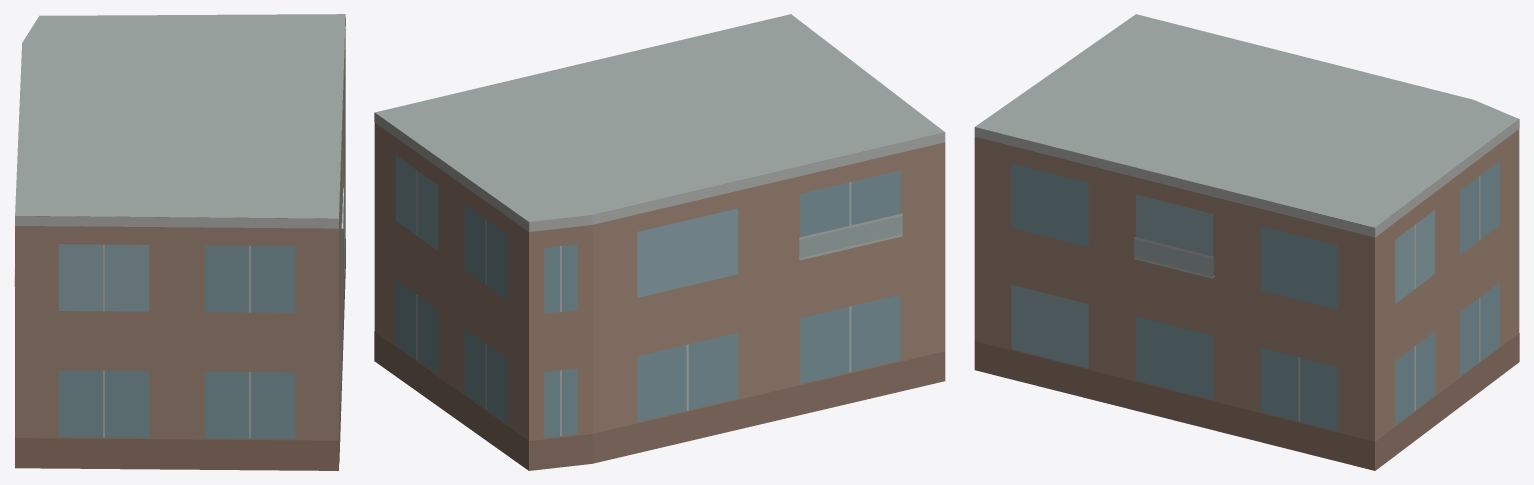
File: survey-upis-32848450.glb
The picture shows the model from 3 angles, left to right: view 1: azimuth 30°, elevation 25°; view 2: azimuth 150°, elevation 25°; view 3: azimuth 270°, elevation 25°; orthographic projection. The views are drawn at different scales.
Parts seen in each view (by area): view 1: survey-upis-32848450.tmp; view 2: survey-upis-32848450.tmp; view 3: survey-upis-32848450.tmp.
Boxes of the visible parts, x1=… form: survey-upis-32848450.tmp: x1=14, y1=14, x2=345, y2=470; survey-upis-32848450.tmp: x1=374, y1=14, x2=945, y2=470; survey-upis-32848450.tmp: x1=974, y1=14, x2=1519, y2=470.
Bounding box in the file's own units: 11.51 × 6.1 × 12.4.
